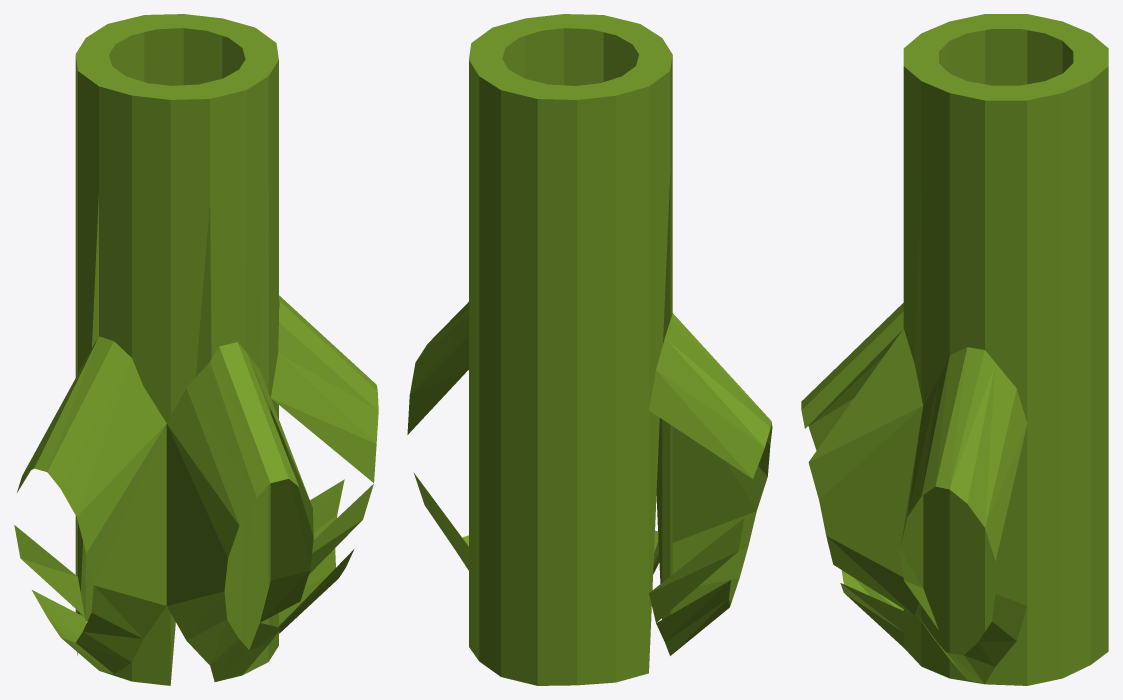
3 views of the same model, side by side, from view 1: azimuth 30°, elevation 25°; view 2: azimuth 150°, elevation 25°; view 3: azimuth 270°, elevation 25° (orthographic).
Size of the model in its own units: 0.149 by 0.2392 by 0.1137.
